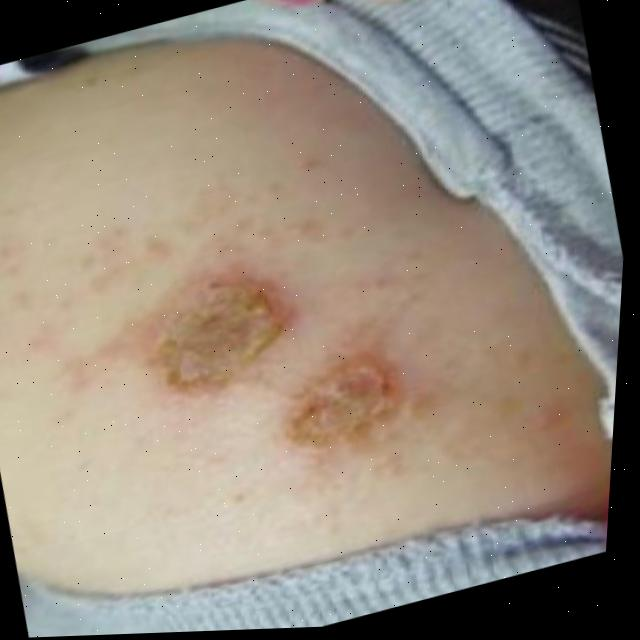Eczema: (165, 242, 338, 390), (301, 351, 399, 441)
